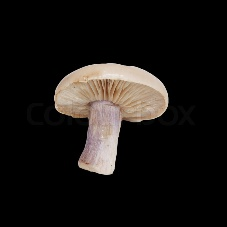mushroom: (56, 61, 173, 176)
